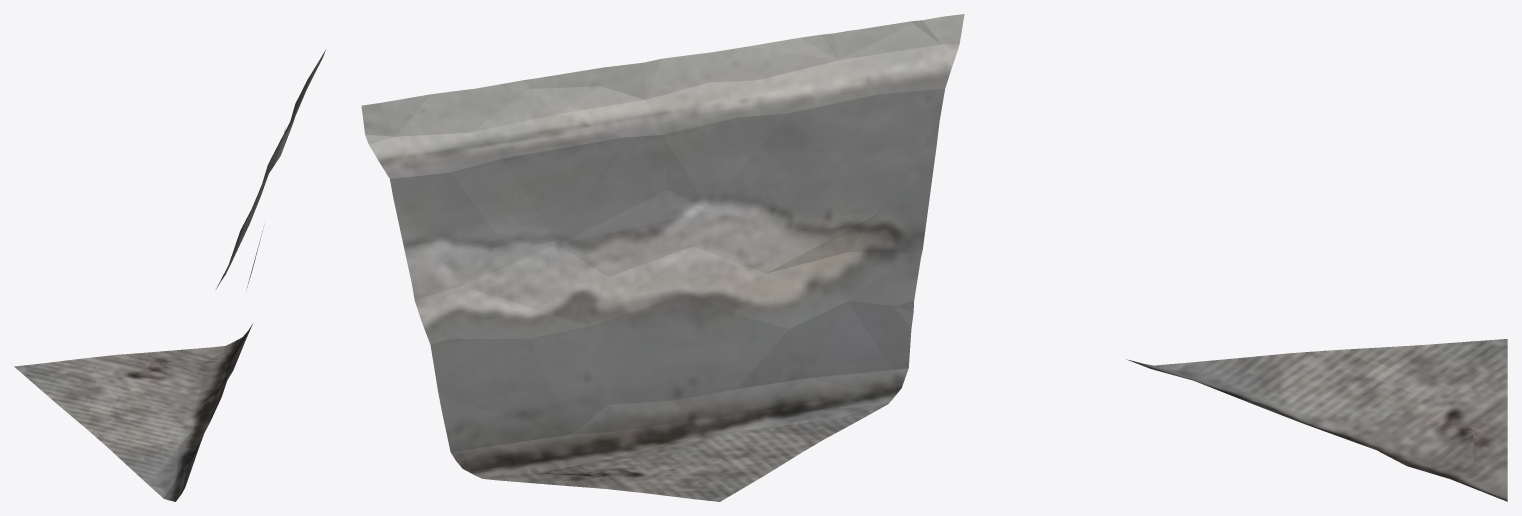
The picture shows the model from 3 angles, left to right: view 1: azimuth 30°, elevation 25°; view 2: azimuth 150°, elevation 25°; view 3: azimuth 270°, elevation 25°; orthographic projection. The views are drawn at different scales.
Size of the model in its own units: 0.3654 by 0.3347 by 0.4318.
Materials: 1 (1 with a texture image).
